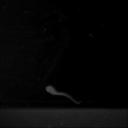fish: (45, 85, 82, 106)
